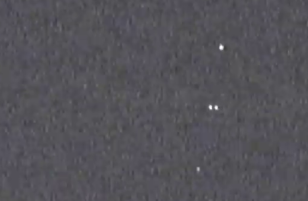Target: (197, 44, 223, 170)
